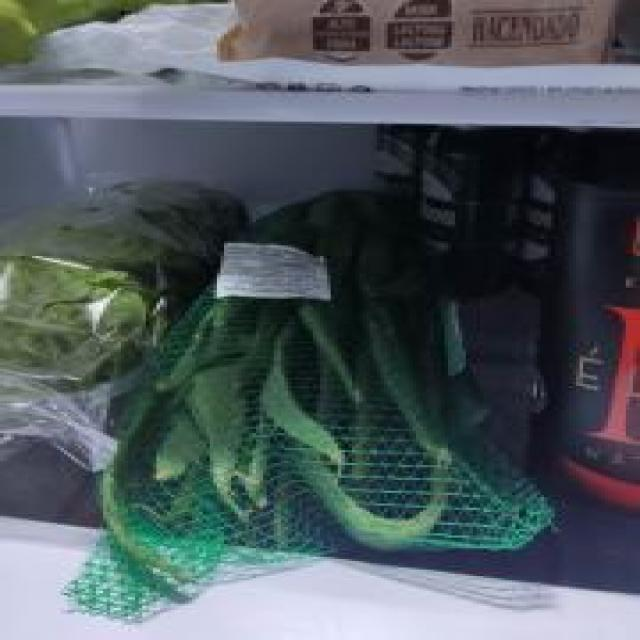green_beans: (70, 188, 564, 621)
salad: (4, 182, 252, 472)
